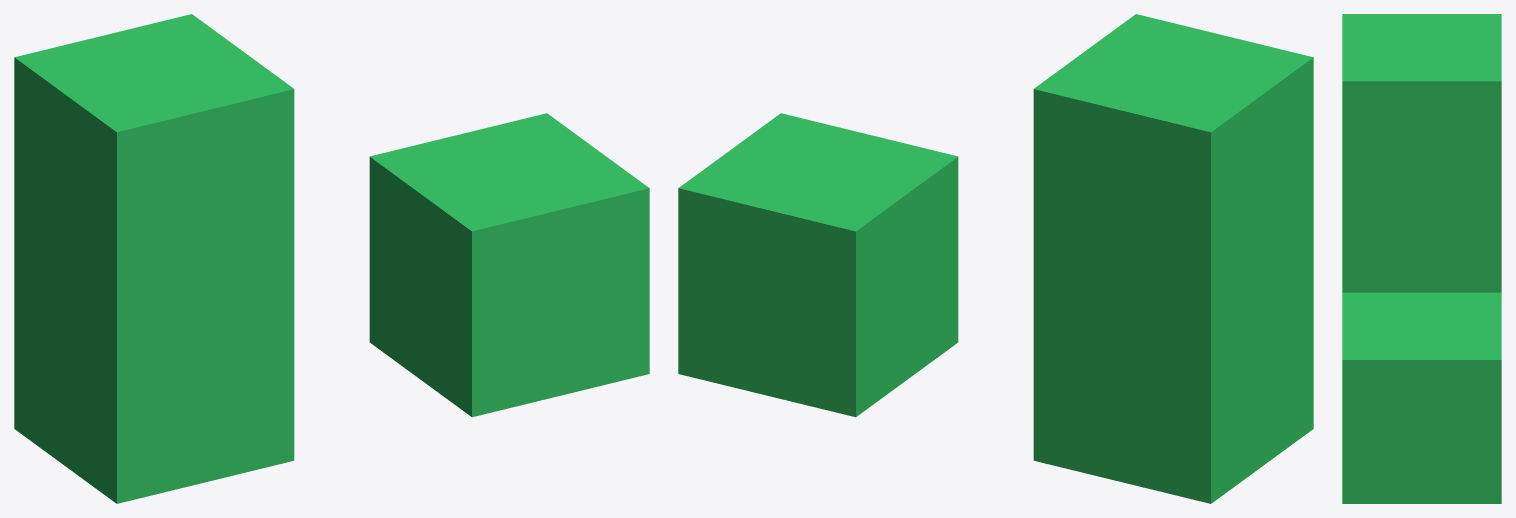
Rendered from grass.obj.
The picture shows the model from 3 angles, left to right: view 1: azimuth 30°, elevation 25°; view 2: azimuth 150°, elevation 25°; view 3: azimuth 270°, elevation 25°; orthographic projection. The views are drawn at different scales.
Bounding box in the file's own units: 3 × 2 × 1.
1 material, 1 textured.
